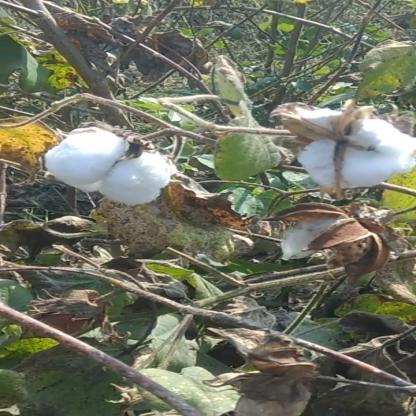cotton_ready: (30, 118, 196, 220)
